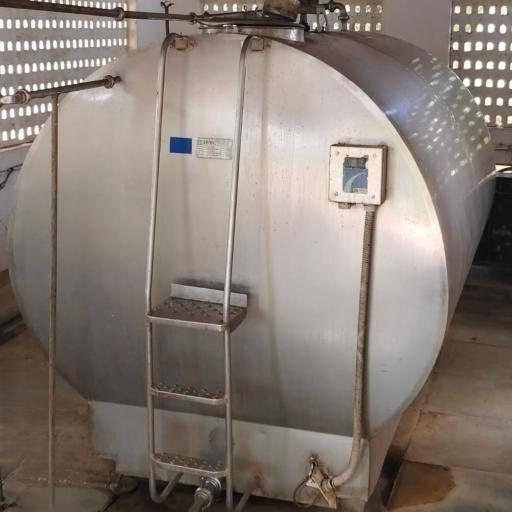silo: (8, 14, 495, 506)
